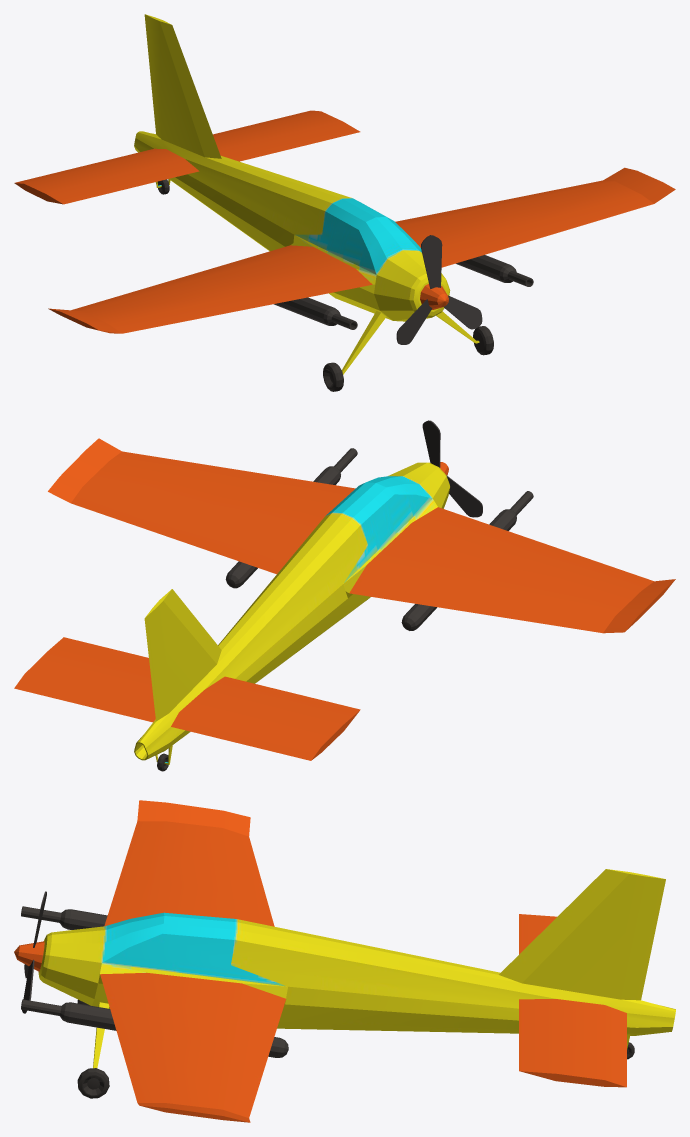
The picture shows the model from 3 angles, top to bottom: view 1: azimuth 30°, elevation 25°; view 2: azimuth 150°, elevation 25°; view 3: azimuth 270°, elevation 25°; orthographic projection. The views are drawn at different scales.
Visible parts, largest first — view 1: Plane1, Motor; view 2: Plane1, Motor; view 3: Plane1, Motor.
Boxes of the visible parts, bbox=[...] form: Plane1: bbox=[14, 14, 675, 391]; Motor: bbox=[396, 235, 482, 344]; Plane1: bbox=[14, 438, 675, 771]; Motor: bbox=[422, 420, 482, 517]; Plane1: bbox=[21, 800, 675, 1122]; Motor: bbox=[14, 891, 46, 1013].
Bounding box in the file's own units: 708 × 205 × 648.
Materials: 1 (1 with a texture image).
